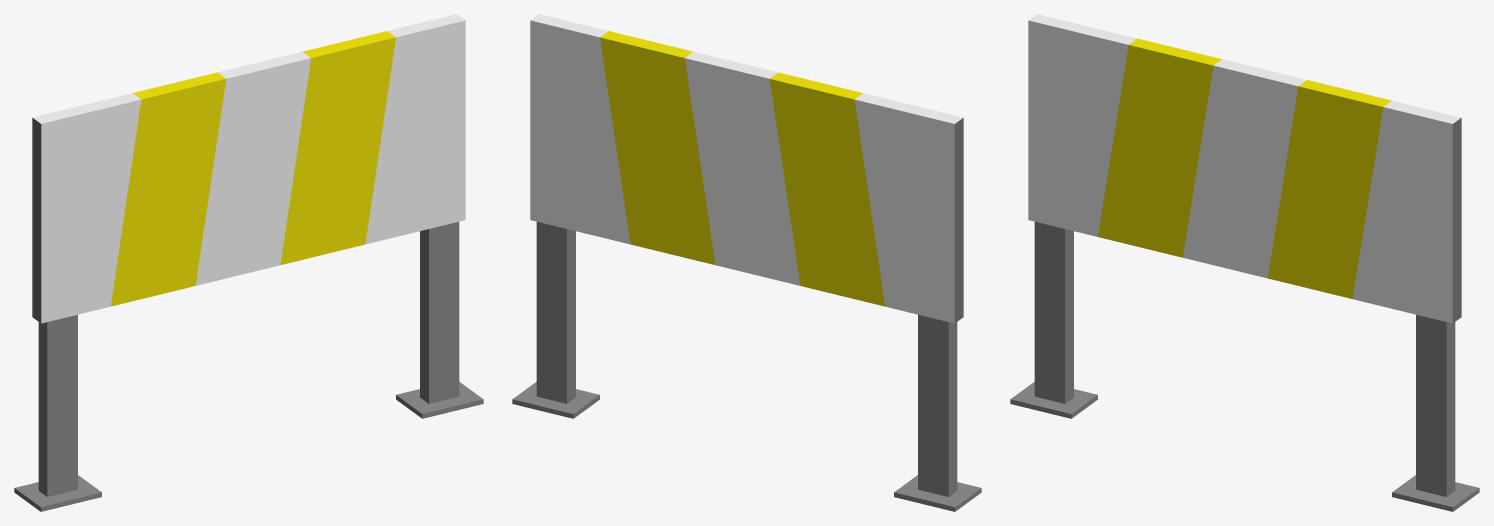
Rendered from Obstacle3.fbx.
3 views of the same model, side by side, from view 1: azimuth 30°, elevation 25°; view 2: azimuth 150°, elevation 25°; view 3: azimuth 330°, elevation 25° (orthographic).
Visible parts, largest first — view 1: Box001, Box002, Box003; view 2: Box001, Box002, Box003; view 3: Box001, Box003, Box002.
Boxes of the visible parts, x1,y1,x2,y2 form: Box001: (32, 14, 465, 323); Box002: (14, 314, 101, 511); Box003: (396, 221, 483, 418); Box001: (530, 14, 963, 323); Box002: (894, 314, 981, 511); Box003: (512, 221, 599, 418); Box001: (1028, 14, 1461, 323); Box003: (1392, 314, 1479, 511); Box002: (1010, 221, 1097, 418).
Bounding box in the file's own units: 114 × 11.81 × 93.5.
